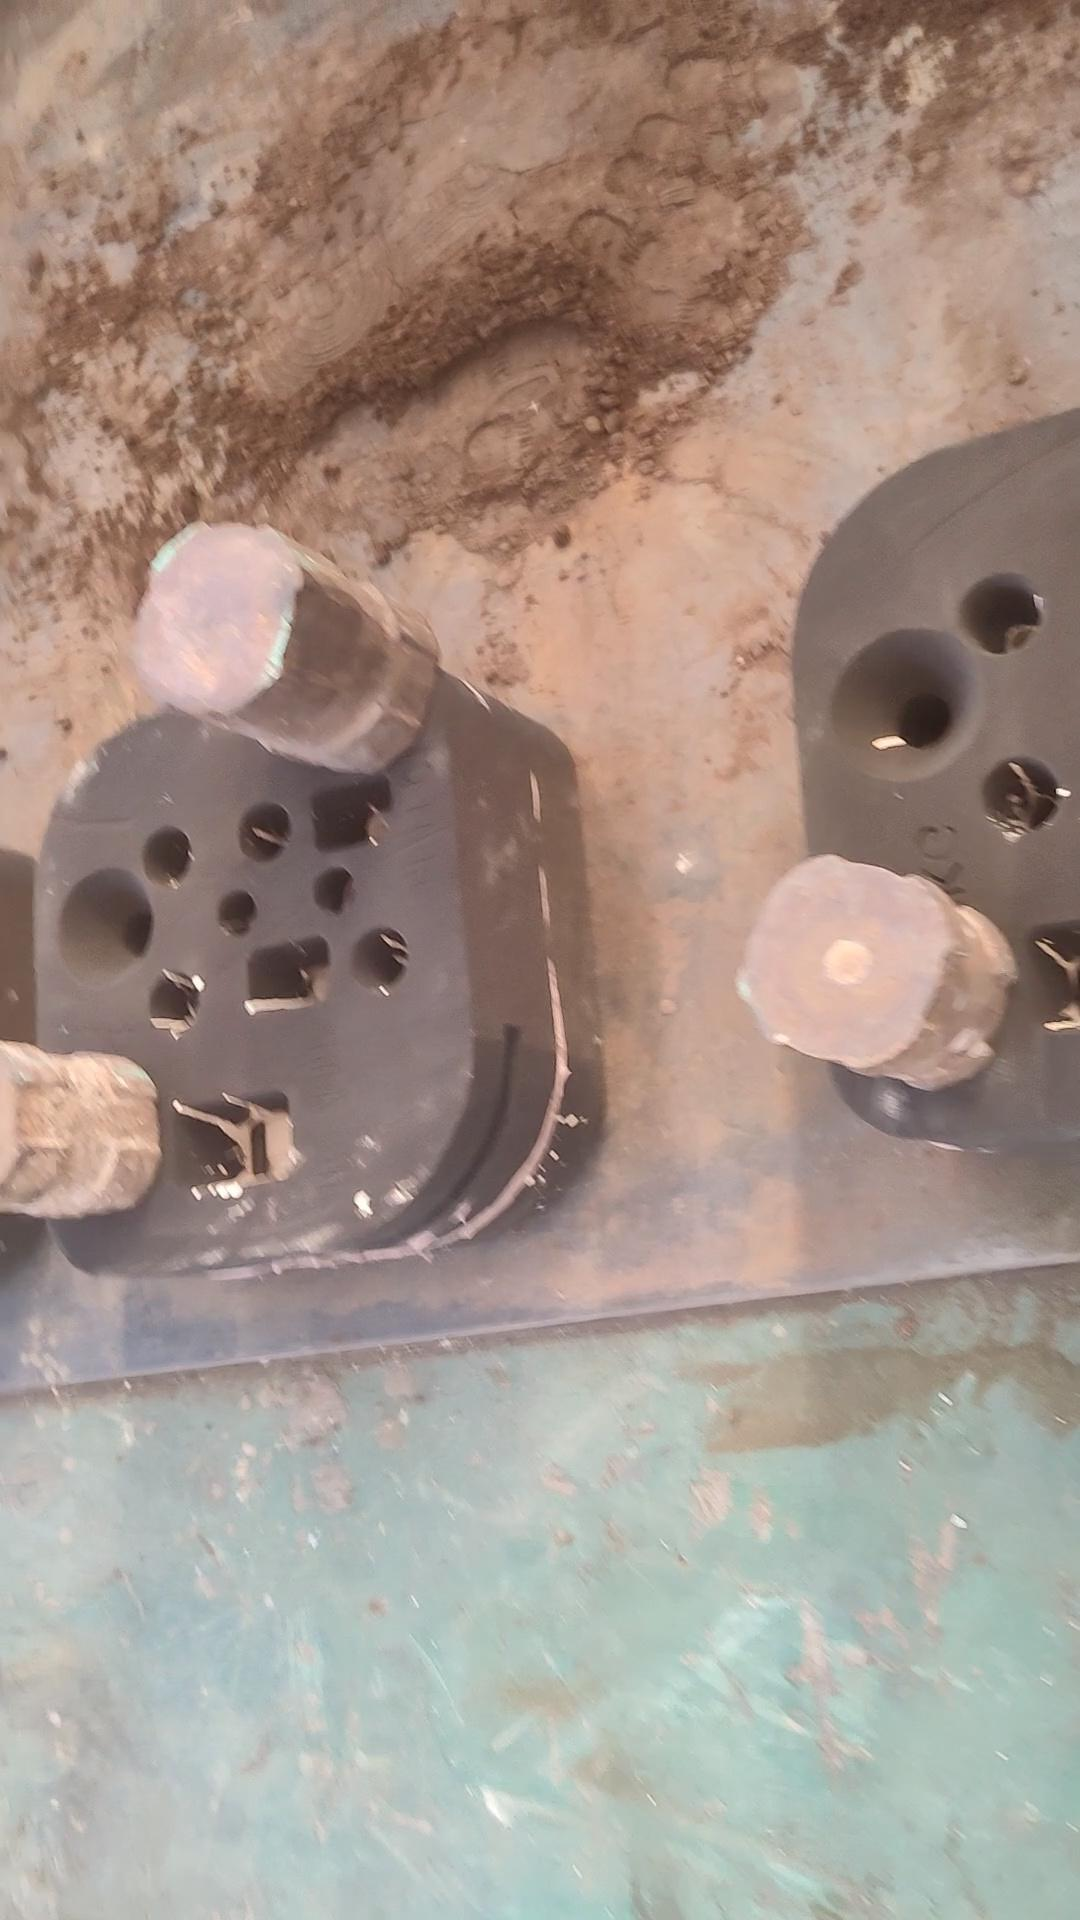pouring hole: (827, 626, 982, 777), (53, 869, 156, 990)
